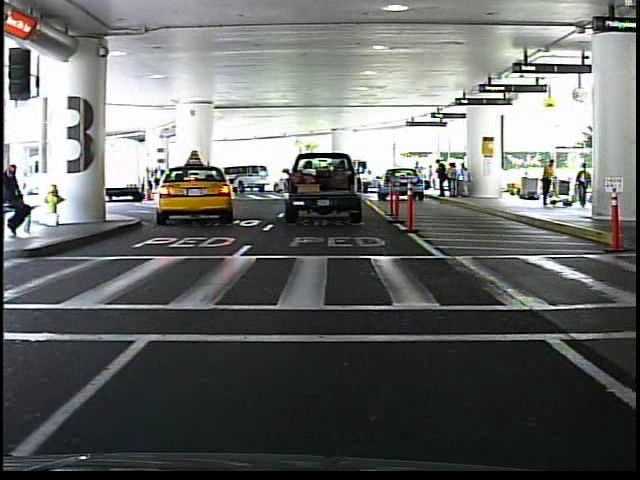person: (2, 161, 37, 238), (536, 154, 559, 209), (575, 160, 593, 212), (412, 160, 425, 193)
